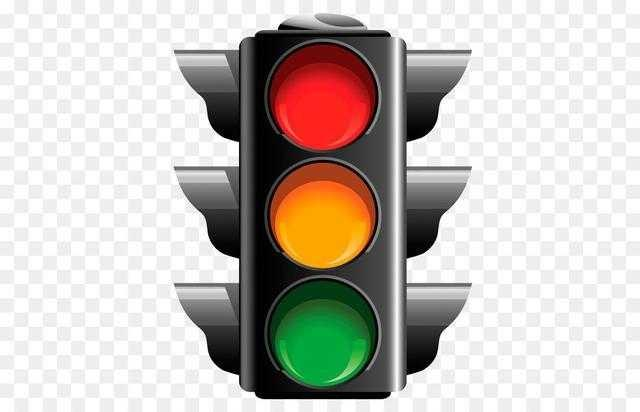green: (256, 271, 390, 392)
red: (259, 26, 393, 158)
